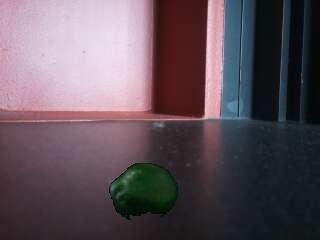Lime: (108, 162, 179, 220)
